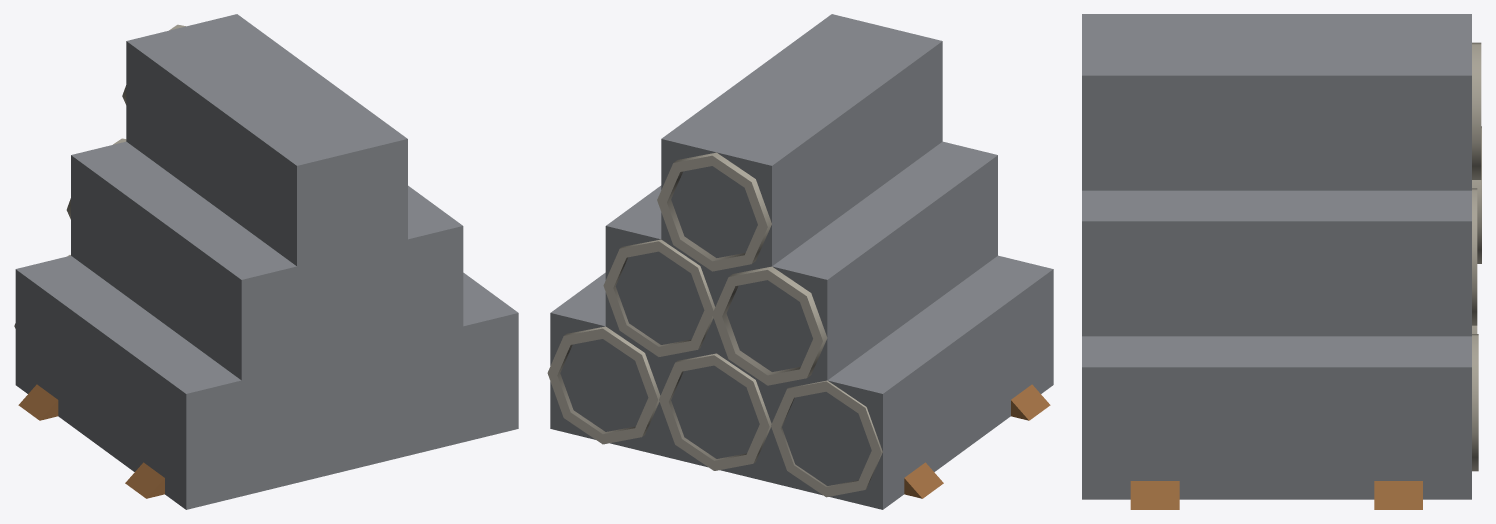
The model's file is prop_pipe_stack.glb.
3 views of the same model, side by side, from view 1: azimuth 30°, elevation 25°; view 2: azimuth 150°, elevation 25°; view 3: azimuth 270°, elevation 25° (orthographic). The views are drawn at different scales.
Parts seen in each view (by area): view 1: prop_pipe_stack__col, prop_pipe_stack__mesh; view 2: prop_pipe_stack__col, prop_pipe_stack__mesh; view 3: prop_pipe_stack__col, prop_pipe_stack__mesh.
Part boxes in pixels (x1=…): prop_pipe_stack__col: x1=15, y1=14, x2=518, y2=509; prop_pipe_stack__mesh: x1=14, y1=24, x2=185, y2=498; prop_pipe_stack__col: x1=550, y1=14, x2=1053, y2=509; prop_pipe_stack__mesh: x1=547, y1=152, x2=1050, y2=498; prop_pipe_stack__col: x1=1082, y1=14, x2=1471, y2=499; prop_pipe_stack__mesh: x1=1130, y1=42, x2=1481, y2=509.
Bounding box in the file's own units: 3 × 2.46 × 2.46.
Materials: 1 (1 with a texture image).
